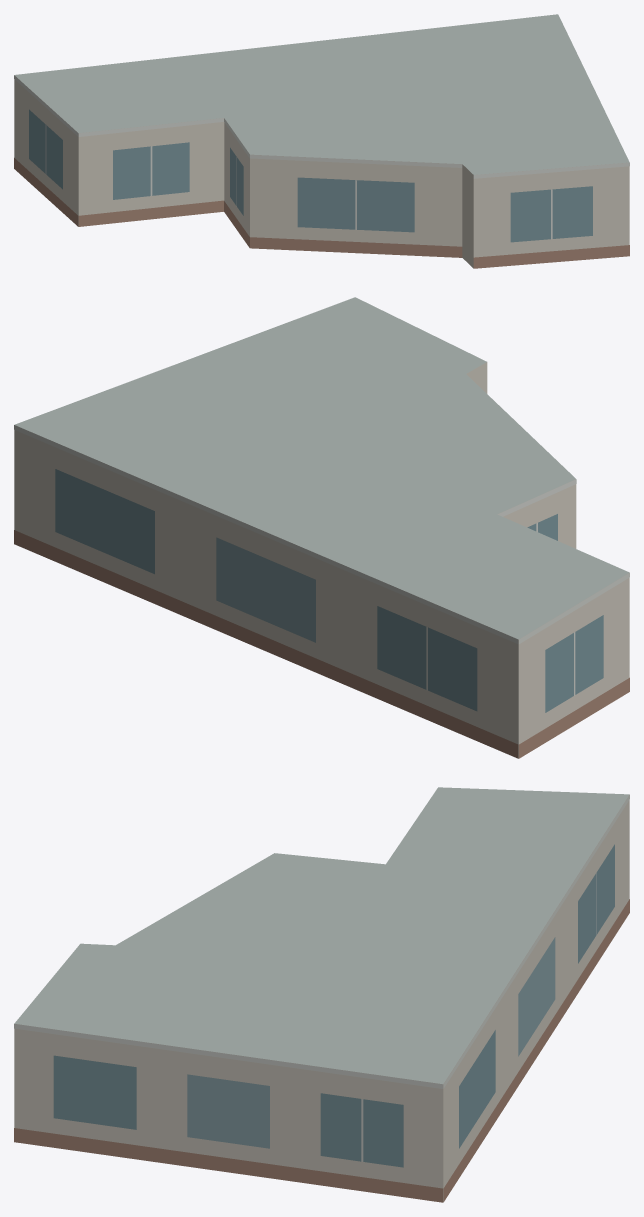
File: survey-upis-32965667.glb
3 renders of one model, top to bottom at view 1: azimuth 30°, elevation 25°; view 2: azimuth 150°, elevation 25°; view 3: azimuth 270°, elevation 25°, orthographic. The views are drawn at different scales.
Visible parts, largest first — view 1: survey-upis-32965667.tmp; view 2: survey-upis-32965667.tmp; view 3: survey-upis-32965667.tmp.
Part boxes in pixels (bbox=[...]): survey-upis-32965667.tmp: bbox=[14, 14, 629, 268]; survey-upis-32965667.tmp: bbox=[14, 297, 629, 758]; survey-upis-32965667.tmp: bbox=[14, 787, 629, 1202].
Size of the model in its own units: 16.42 by 3.05 by 14.38.
